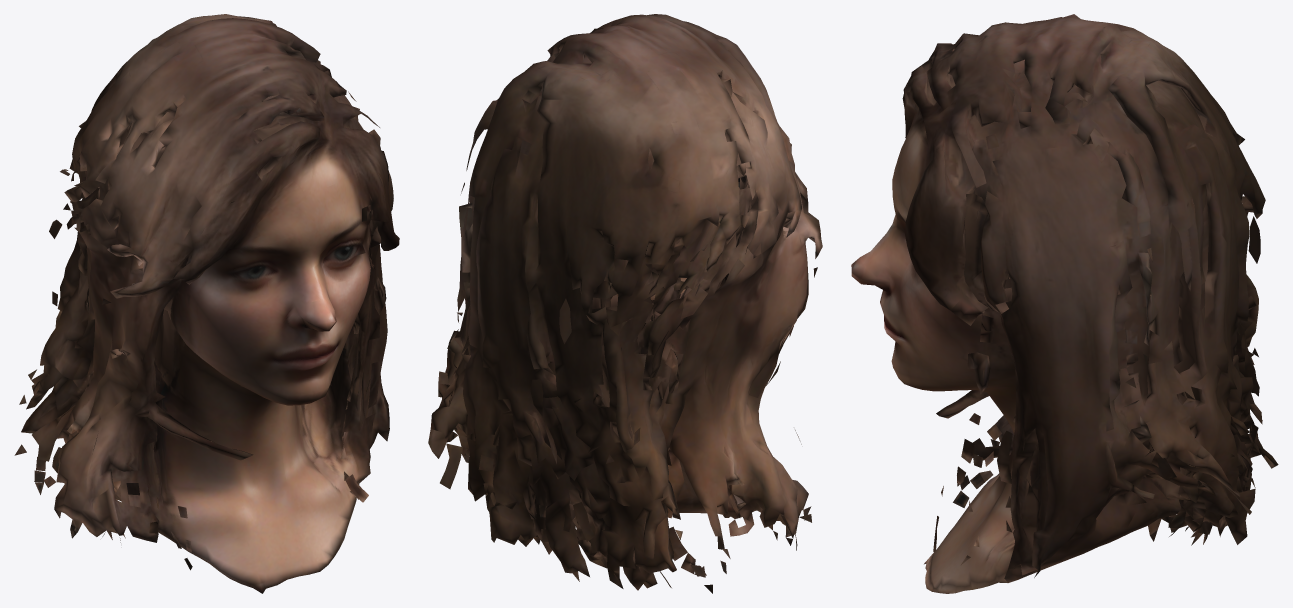
Rendered from female-face.fbx.
The picture shows the model from 3 angles, left to right: view 1: azimuth 30°, elevation 25°; view 2: azimuth 150°, elevation 25°; view 3: azimuth 270°, elevation 25°; orthographic projection. The views are drawn at different scales.
Visible parts, largest first — view 1: Mesh1_Mesh1.027; view 2: Mesh1_Mesh1.027; view 3: Mesh1_Mesh1.027.
Boxes of the visible parts, x1=… form: Mesh1_Mesh1.027: x1=14, y1=14, x2=399, y2=593; Mesh1_Mesh1.027: x1=428, y1=14, x2=822, y2=593; Mesh1_Mesh1.027: x1=851, y1=14, x2=1278, y2=593.
Size of the model in its own units: 134 by 199 by 139.
1 material, 1 textured.
